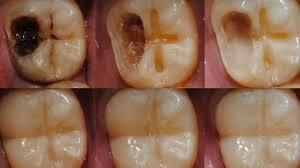cavity: (108, 0, 199, 87), (211, 0, 300, 87), (2, 0, 86, 81)
normal: (107, 89, 196, 168), (217, 88, 300, 168), (1, 92, 84, 168)
